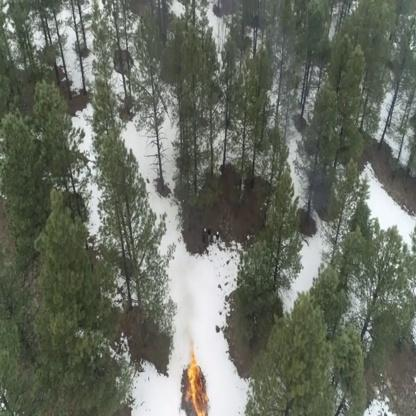Fire: (178, 342, 211, 415)
